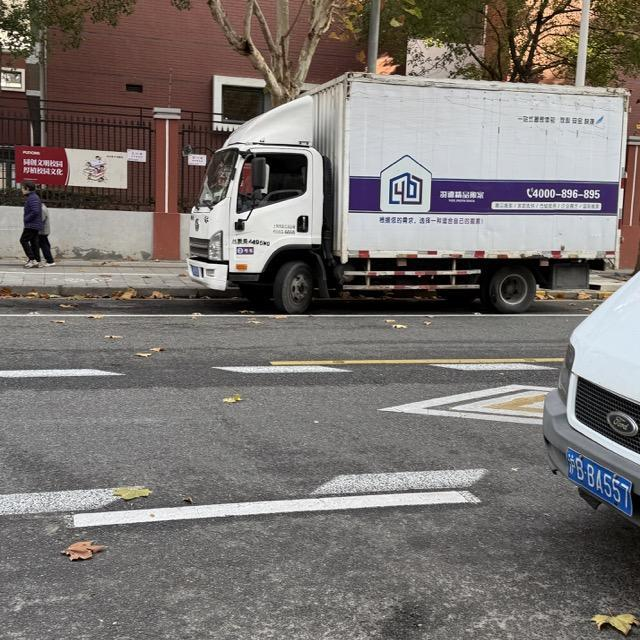curb: (0, 298, 250, 314), (312, 302, 479, 314), (530, 300, 591, 314)
